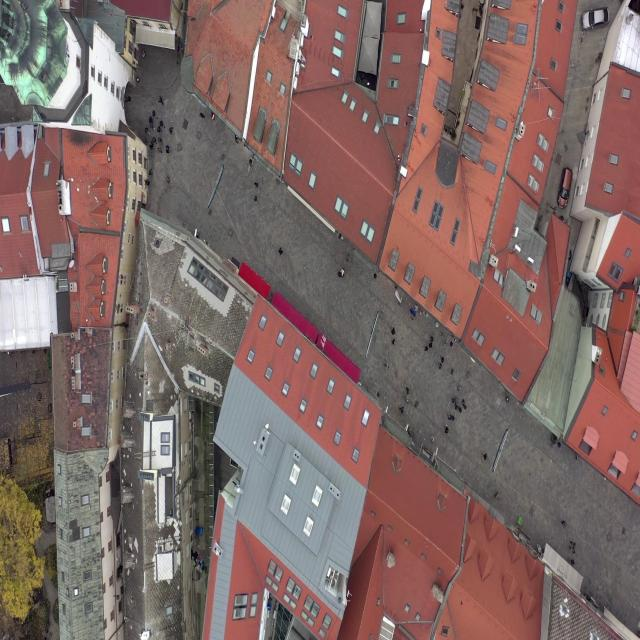Car: (550, 159, 580, 215), (578, 0, 612, 39)
